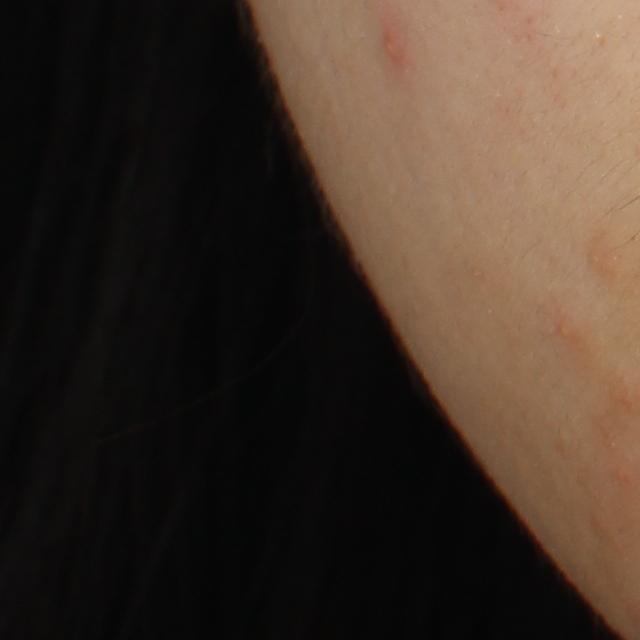papule: (375, 20, 415, 74), (557, 318, 578, 340)
